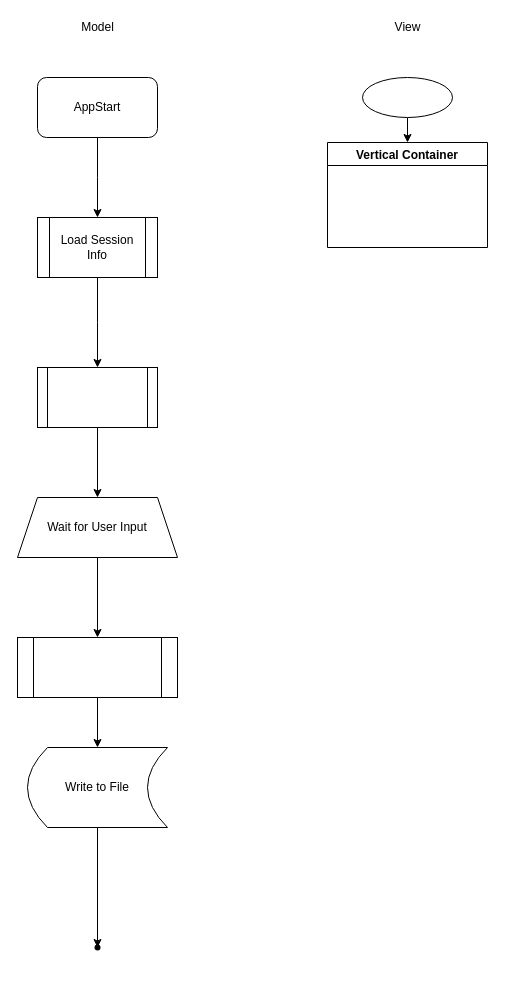
This 505x985 diagram has some shape labels left out. The centre of each missing label's shape, as x and y in pixels:
"App Icon" belongs at pixel 407 97.
"Load Voting List" belongs at pixel 97 397.
"Store Data From User" belongs at pixel 97 667.
